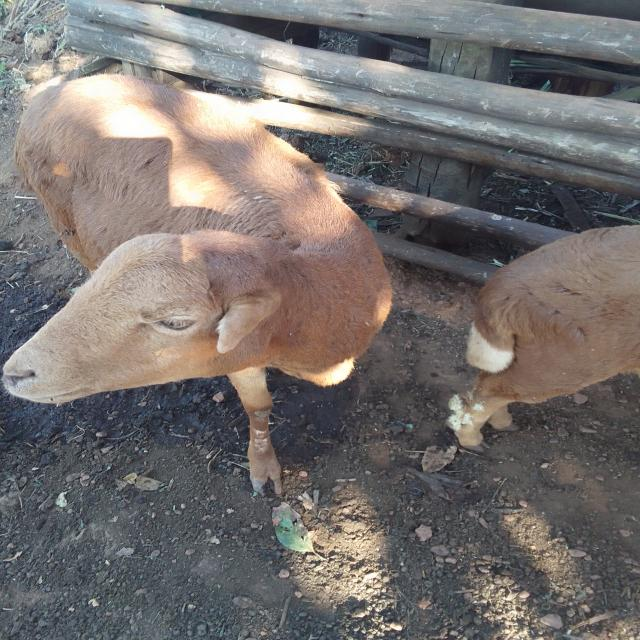sheep: (424, 184, 640, 508)
